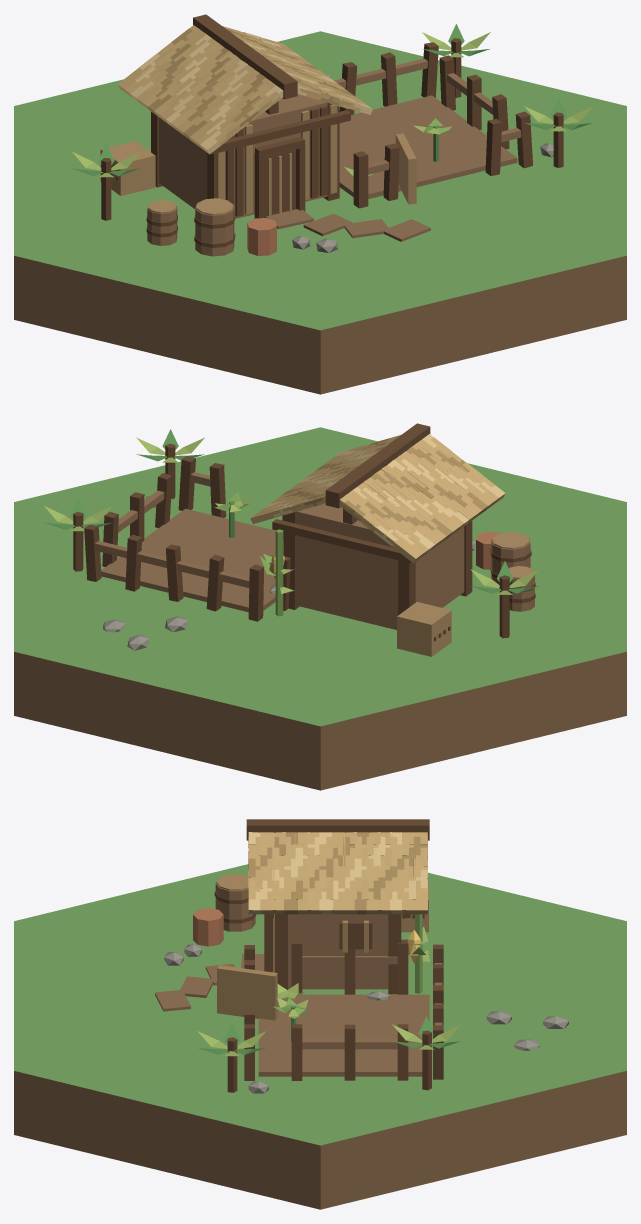
The model's file is Farm_Level_1.fbx.
The picture shows the model from 3 angles, top to bottom: view 1: azimuth 30°, elevation 25°; view 2: azimuth 150°, elevation 25°; view 3: azimuth 270°, elevation 25°; orthographic projection.
Visible parts, largest first — view 1: Farm_Hex_Terrain_Base, Garden_Soil_Patch, Hut_Timber_Walls, Roof_Ridge, Wooden_Crate, Roof_Support_Beam, Hut_Door, Water_Barrel, Open_Wooden_Gate, Clay_Pot, Rough_Fence_Post.011, Rough_Fence_Post.013 (+23 smaller); view 2: Farm_Hex_Terrain_Base, Hut_Timber_Walls, Garden_Soil_Patch, Wooden_Crate, Roof_Ridge, Roof_Support_Beam.001, Back_Fence_Rail, Hut_Support_Post.001, Rough_Fence_Post, Rough_Fence_Post.004, Rough_Fence_Post.002, Rough_Fence_Post.001 (+16 smaller); view 3: Farm_Hex_Terrain_Base, Garden_Soil_Patch, Hut_Timber_Walls, Open_Wooden_Gate, Roof_Ridge, Water_Barrel, Clay_Pot, Side_Fence_Rail.001, Hut_Support_Post.002, Hut_Support_Post.003, Side_Fence_Rail, Rough_Fence_Post.008 (+10 smaller).
Boxes of the visible parts, box(x1,y1,x2,y2) form: Farm_Hex_Terrain_Base: box(14, 31, 626, 394); Garden_Soil_Patch: box(339, 95, 517, 198); Hut_Timber_Walls: box(159, 94, 327, 218); Roof_Ridge: box(193, 14, 297, 99); Wooden_Crate: box(100, 141, 155, 195); Roof_Support_Beam: box(211, 110, 350, 154); Hut_Door: box(264, 149, 295, 217); Water_Barrel: box(195, 204, 234, 256); Open_Wooden_Gate: box(395, 133, 416, 204); Clay_Pot: box(247, 218, 276, 255); Rough_Fence_Post.011: box(353, 151, 368, 208); Rough_Fence_Post.013: box(485, 118, 501, 175); Farm_Hex_Terrain_Base: box(14, 427, 626, 790); Hut_Timber_Walls: box(295, 503, 464, 629); Garden_Soil_Patch: box(101, 508, 283, 612); Wooden_Crate: box(397, 602, 451, 656); Roof_Ridge: box(325, 423, 430, 508); Roof_Support_Beam.001: box(272, 519, 411, 563); Back_Fence_Rail: box(95, 541, 249, 587); Hut_Support_Post.001: box(398, 560, 415, 615); Rough_Fence_Post: box(248, 564, 264, 621); Rough_Fence_Post.004: box(84, 524, 101, 581); Rough_Fence_Post.002: box(165, 544, 183, 601); Rough_Fence_Post.001: box(206, 554, 224, 611); Farm_Hex_Terrain_Base: box(14, 864, 626, 1209); Garden_Soil_Patch: box(258, 994, 429, 1076); Hut_Timber_Walls: box(288, 914, 388, 989); Open_Wooden_Gate: box(217, 965, 277, 1020); Roof_Ridge: box(246, 819, 429, 840); Water_Barrel: box(215, 881, 255, 931); Clay_Pot: box(193, 908, 223, 946); Side_Fence_Rail.001: box(302, 1039, 397, 1049); Hut_Support_Post.002: box(275, 914, 287, 989); Hut_Support_Post.003: box(388, 914, 401, 994); Side_Fence_Rail: box(302, 956, 397, 964); Rough_Fence_Post.008: box(291, 1024, 302, 1080).
Bounding box in the file's own units: 6 × 1.92 × 5.2.
